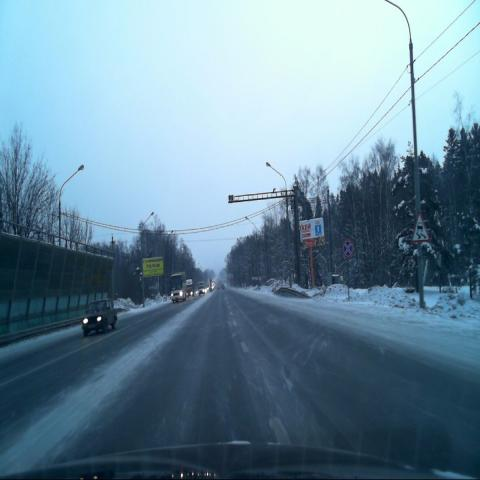3_27: (342, 238, 353, 258)
